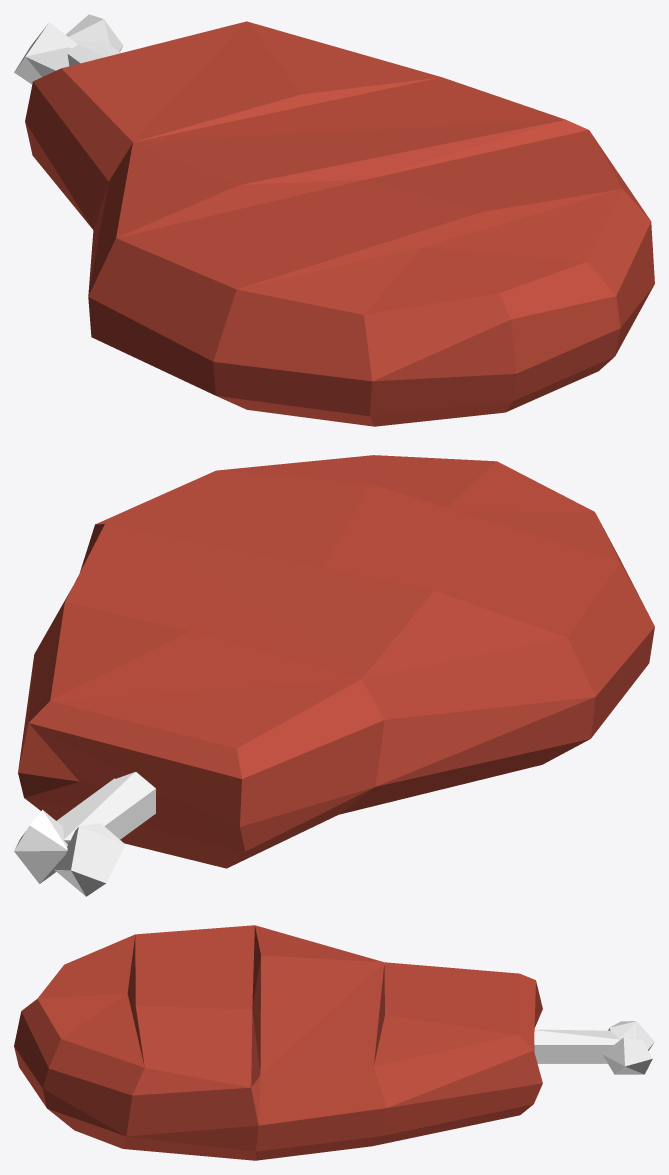
Rendered from Meat_1.fbx.
3 renders of one model, top to bottom at view 1: azimuth 30°, elevation 25°; view 2: azimuth 150°, elevation 25°; view 3: azimuth 270°, elevation 25°, orthographic. The views are drawn at different scales.
Visible parts, largest first — view 1: Meat 1; view 2: Meat 1; view 3: Meat 1.
Boxes of the visible parts, x1,y1,x2,y2 form: Meat 1: (14, 14, 654, 426); Meat 1: (14, 455, 654, 896); Meat 1: (14, 925, 654, 1160).
Bounding box in the file's own units: 9.87 × 2.68 × 15.53.
